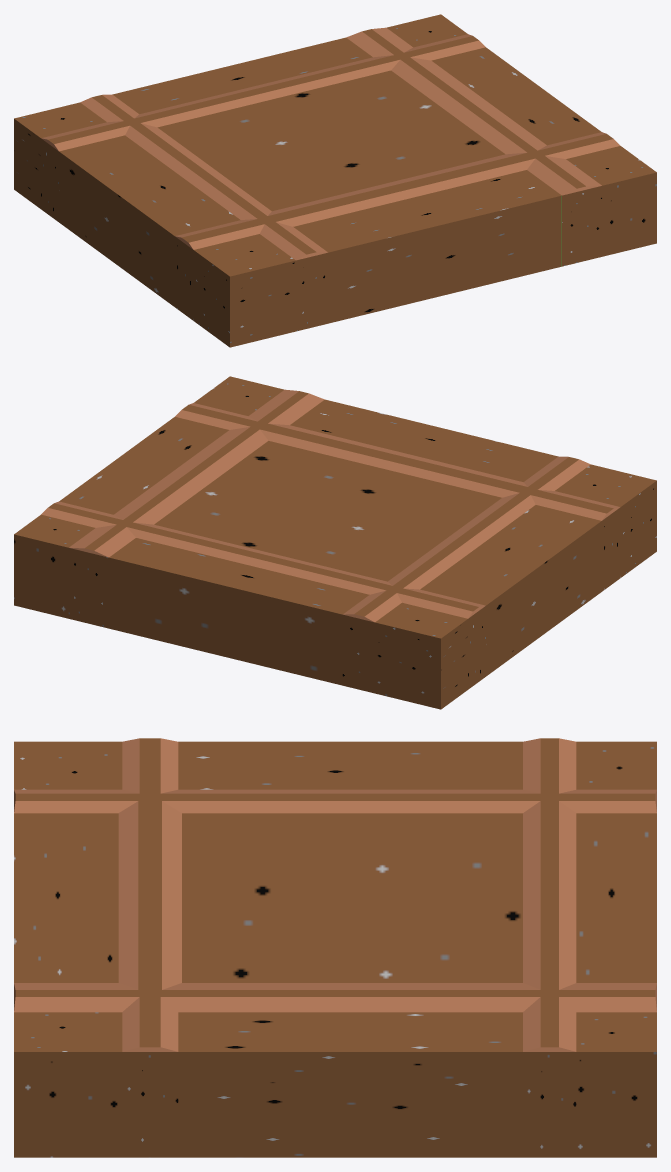
The model's file is DugGround.fbx.
3 renders of one model, top to bottom at view 1: azimuth 30°, elevation 25°; view 2: azimuth 150°, elevation 25°; view 3: azimuth 270°, elevation 25°, orthographic. The views are drawn at different scales.
Visible parts, largest first — view 1: Cube; view 2: Cube; view 3: Cube.
Part boxes in pixels (x1=…): Cube: x1=14, y1=14, x2=656, y2=347; Cube: x1=14, y1=376, x2=656, y2=709; Cube: x1=14, y1=738, x2=656, y2=1157.
Size of the model in its own units: 389 by 64.23 by 341.
